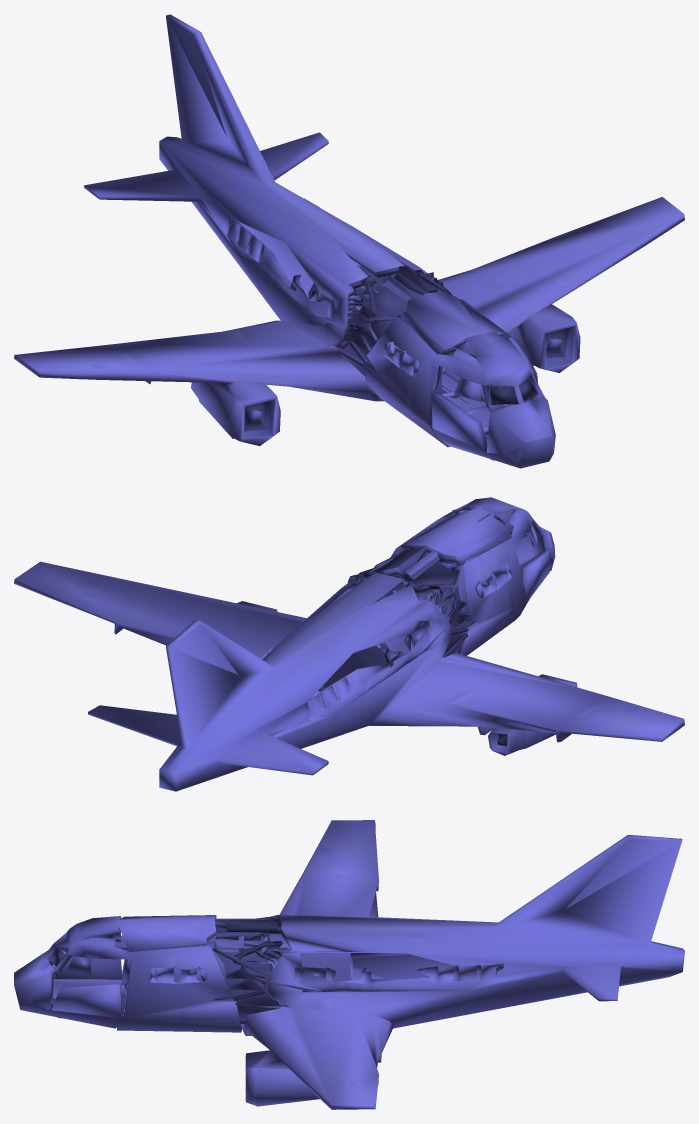
The model's file is model.progressive.glb.
The picture shows the model from 3 angles, top to bottom: view 1: azimuth 30°, elevation 25°; view 2: azimuth 150°, elevation 25°; view 3: azimuth 270°, elevation 25°; orthographic projection. The views are drawn at different scales.
Visible parts, largest first — view 1: material; view 2: material; view 3: material.
Boxes of the visible parts, x1,y1,x2,y2 form: material: [14, 14, 684, 468]; material: [14, 497, 684, 791]; material: [14, 820, 684, 1109].
Size of the model in its own units: 1.9 by 0.6209 by 1.88.
1 material, 1 textured.
